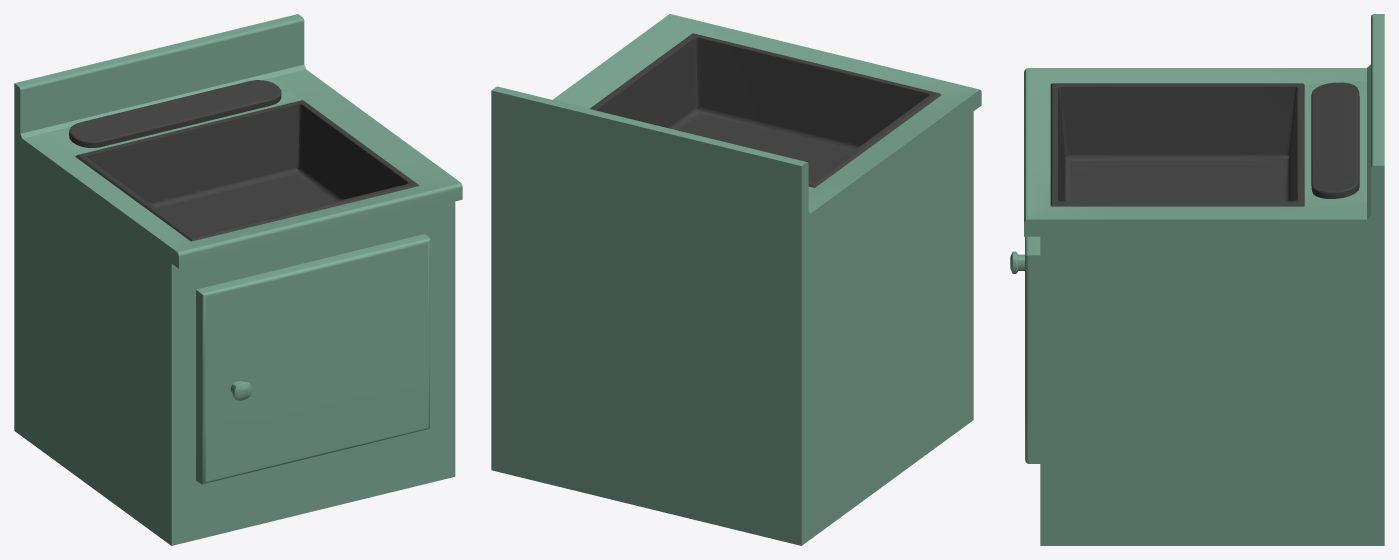
File: SinkMod.fbx
3 renders of one model, left to right at view 1: azimuth 30°, elevation 25°; view 2: azimuth 150°, elevation 25°; view 3: azimuth 270°, elevation 25°, orthographic. The views are drawn at different scales.
Visible parts, largest first — view 1: SinkMod; view 2: SinkMod; view 3: SinkMod.
Part boxes in pixels (<box>): SinkMod: <box>14,14,462,545</box>; SinkMod: <box>491,14,981,545</box>; SinkMod: <box>1010,14,1384,545</box>.
Size of the model in its own units: 4.98 by 5.83 by 5.2.
